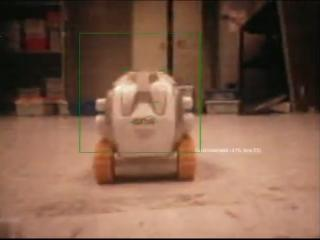cozmo: (91, 68, 197, 184)
